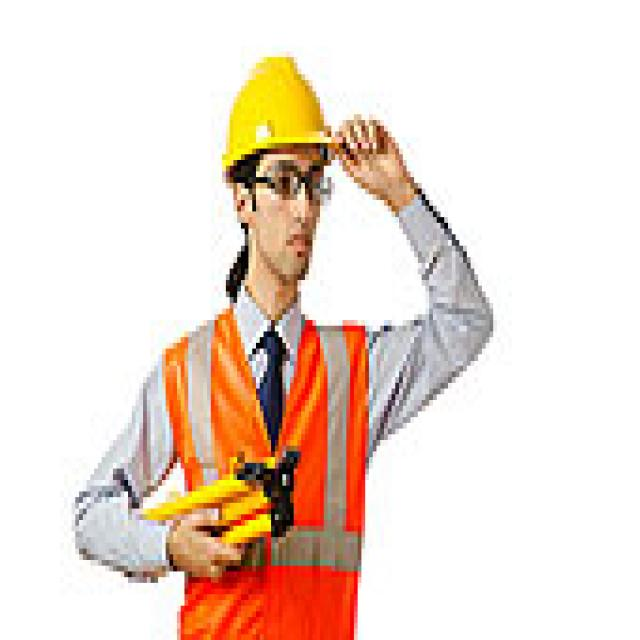Reflective-Jacket: (150, 297, 377, 634)
Safety-Helmet: (214, 46, 338, 183)
